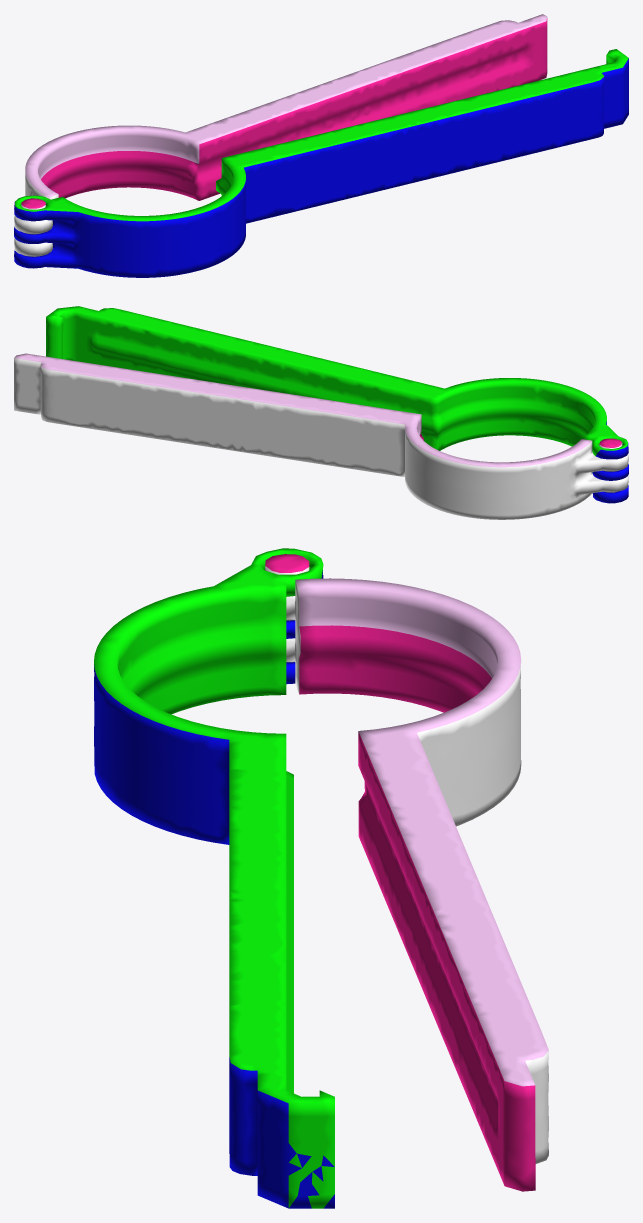
File: model_12219_segmented.obj
3 views of the same model, one above another, from view 1: azimuth 30°, elevation 25°; view 2: azimuth 150°, elevation 25°; view 3: azimuth 270°, elevation 25° (orthographic). The views are drawn at different scales.
Size of the model in its own units: 170 by 15.04 by 58.81.
